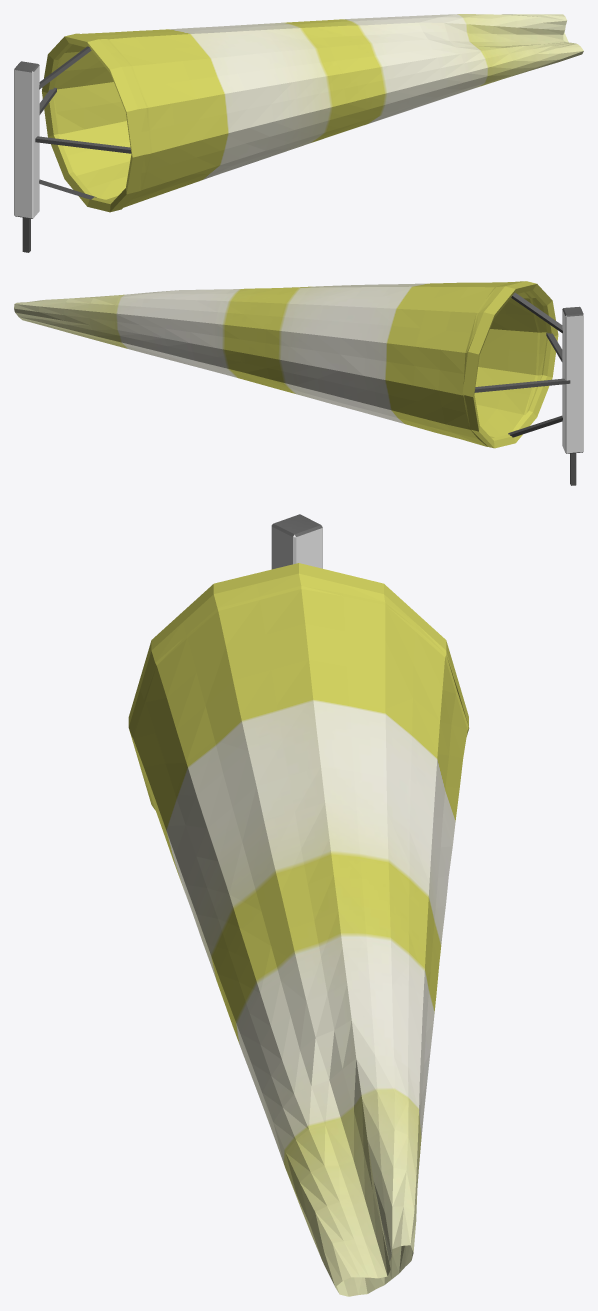
The picture shows the model from 3 angles, top to bottom: view 1: azimuth 30°, elevation 25°; view 2: azimuth 150°, elevation 25°; view 3: azimuth 270°, elevation 25°; orthographic projection. The views are drawn at different scales.
Visible parts, largest first — view 1: WS-3.obj; view 2: WS-3.obj; view 3: WS-3.obj.
Boxes of the visible parts, left/top/right/bottom form: WS-3.obj: left=14, top=14, right=583, bottom=252; WS-3.obj: left=14, top=281, right=583, bottom=485; WS-3.obj: left=128, top=514, right=469, bottom=1296.
Bounding box in the file's own units: 5.3 × 1.7 × 1.44.
